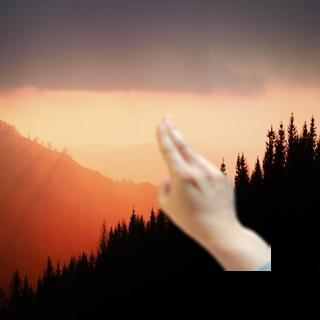DHAVE: (145, 109, 239, 241)
